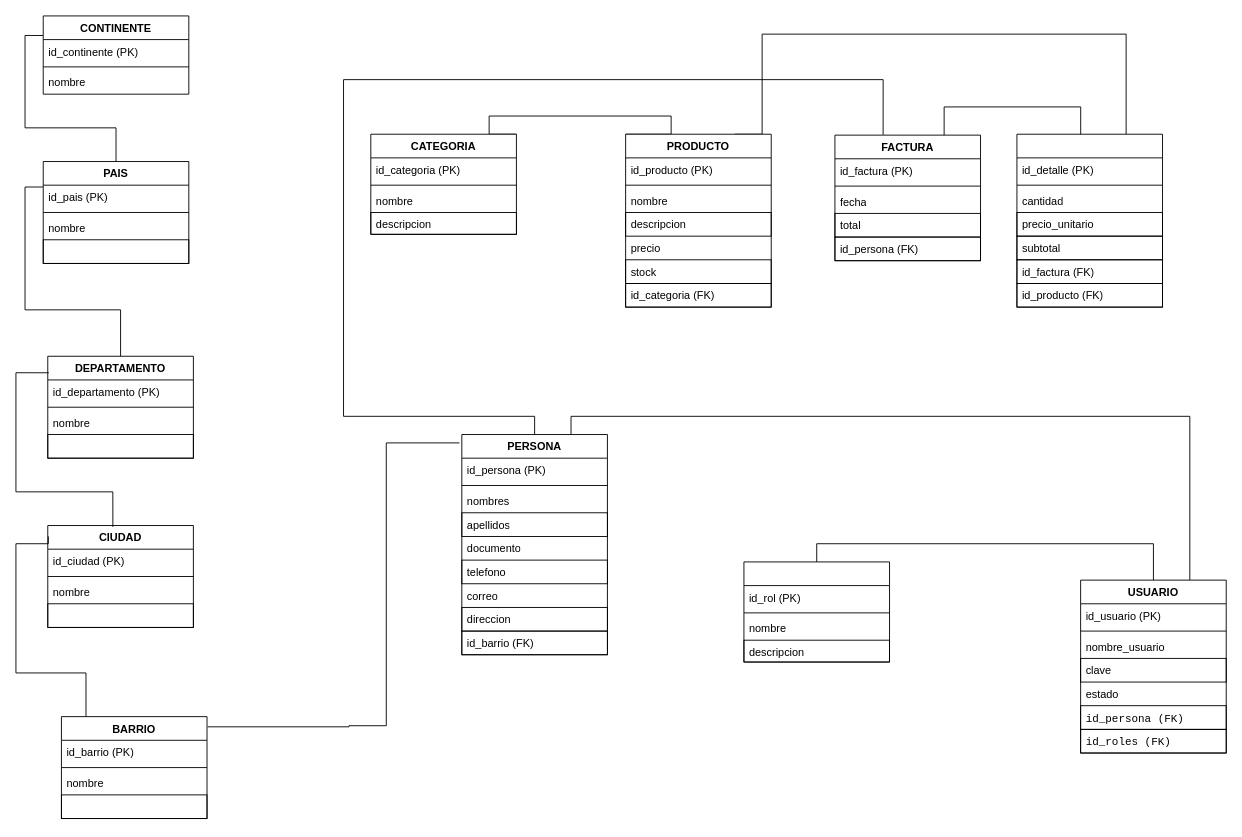
The diagram is 1242 pixels wide and 837 high, and some of its shapes have lost their labels. The shapes that lost their labels are listed below. From the top down, each one's box as (x1, y1, x2, y2) in pixels, then its label:
(1016, 133, 1163, 307): DETALLE_FACTURA
(42, 239, 189, 263): id_continente (FK)
(47, 434, 193, 458): id_pais (FK)
(47, 603, 193, 627): id_departamento (FK)
(743, 561, 890, 662): ROLES
(61, 794, 207, 819): id_ciudad (FK)
